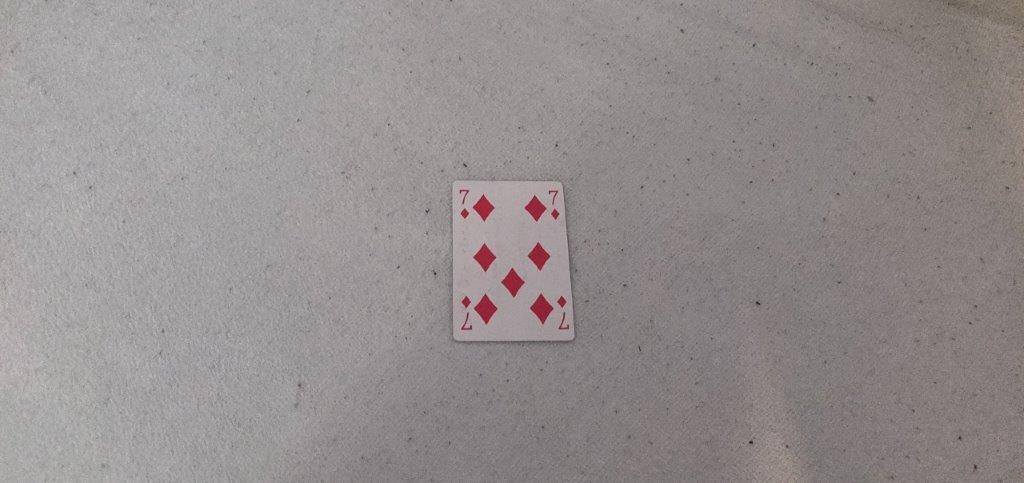7D: (455, 188, 473, 222), (547, 188, 564, 223)
